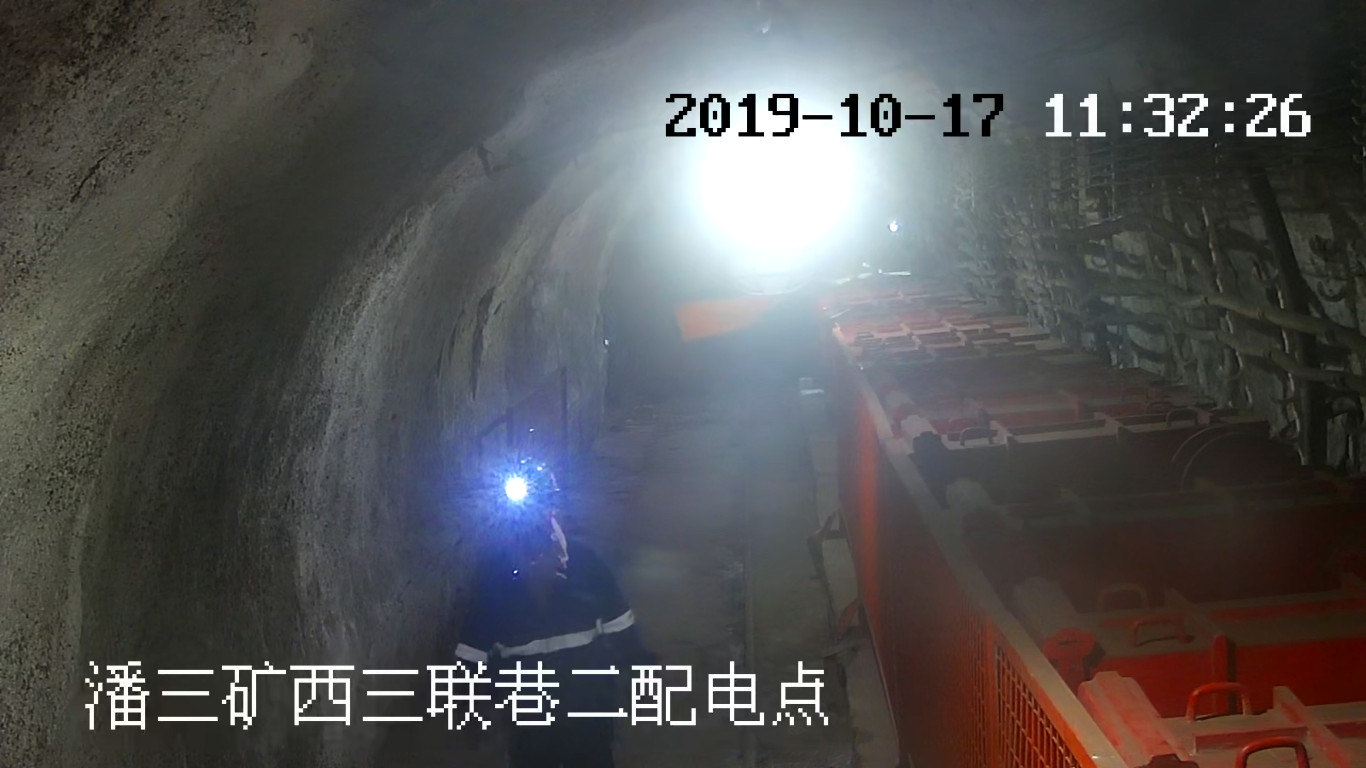helmet: (500, 455, 560, 506)
